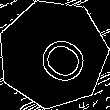O_NW: (20, 22, 87, 86)
